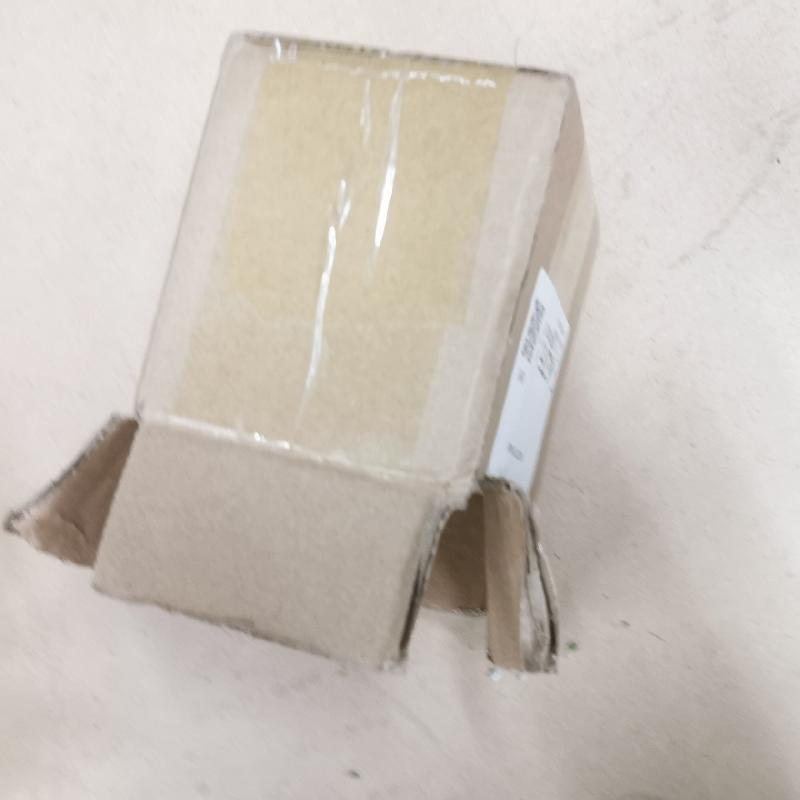boxes: (9, 26, 603, 683)
